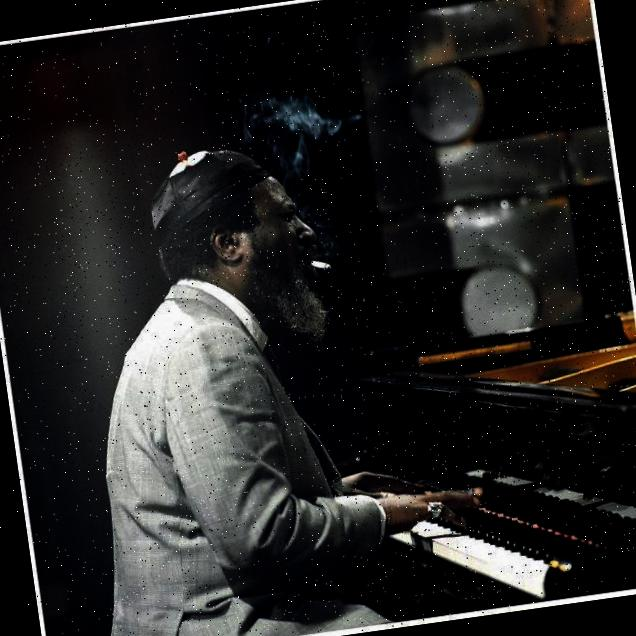smoke: (240, 74, 369, 177)
